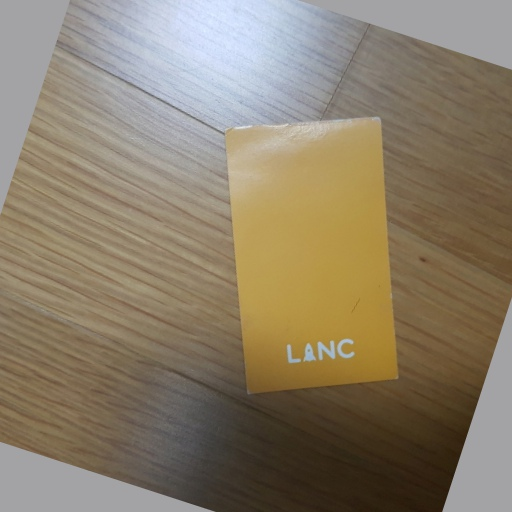Paper_2: (224, 106, 407, 409)
